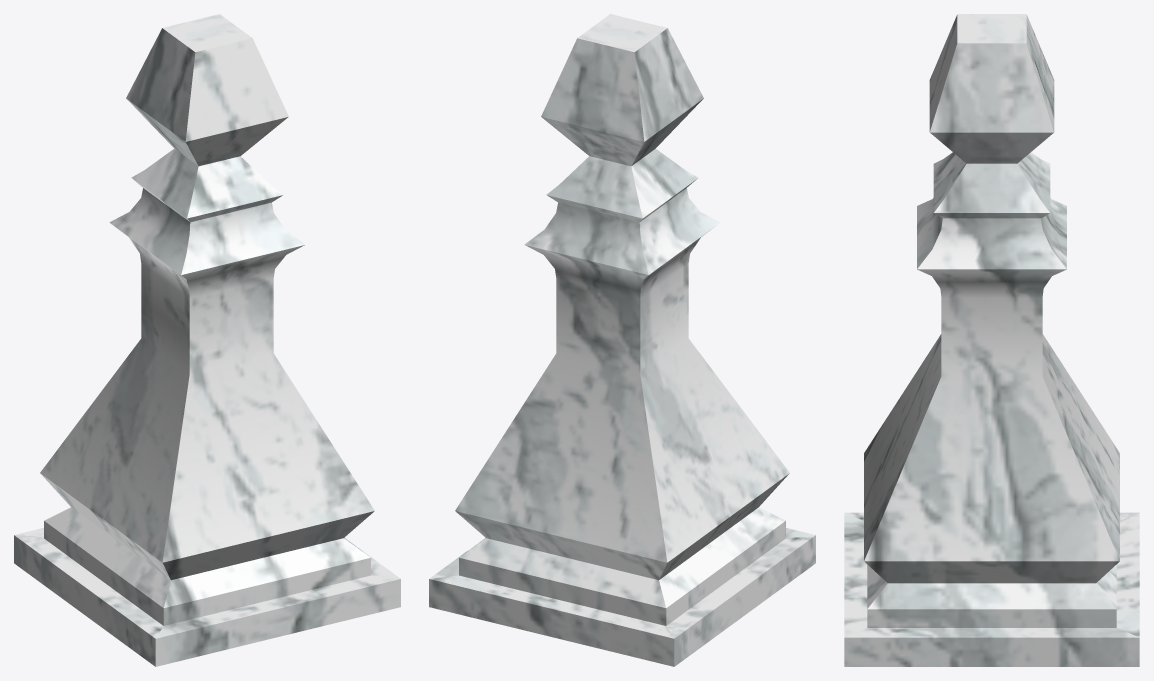
File: chess_pawn_01.glb
The picture shows the model from 3 angles, left to right: view 1: azimuth 30°, elevation 25°; view 2: azimuth 150°, elevation 25°; view 3: azimuth 270°, elevation 25°; orthographic projection. The views are drawn at different scales.
Visible parts, largest first — view 1: pawn_01; view 2: pawn_01; view 3: pawn_01.
Boxes of the visible parts, <box> form: pawn_01: <box>14,14,400,666</box>; pawn_01: <box>429,14,815,666</box>; pawn_01: <box>844,14,1139,666</box>.
Bounding box in the file's own units: 0.5712 × 1.23 × 0.5712.
1 material, 1 textured.
